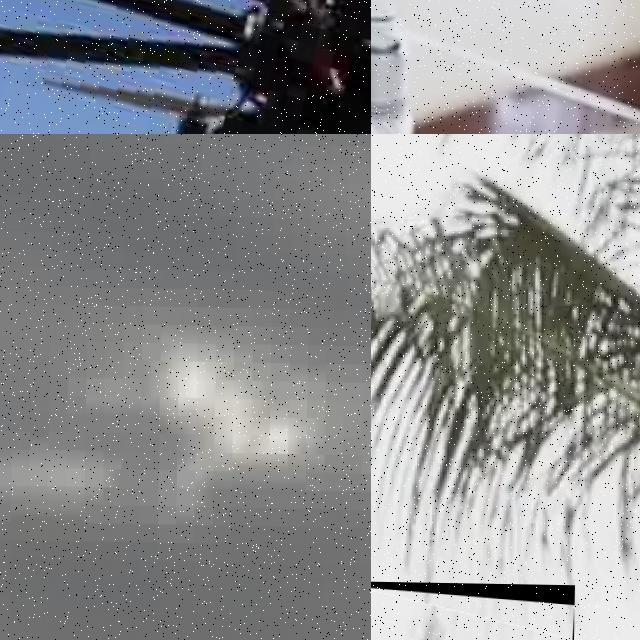drone: (0, 0, 371, 134), (371, 0, 640, 134), (371, 579, 574, 640)
